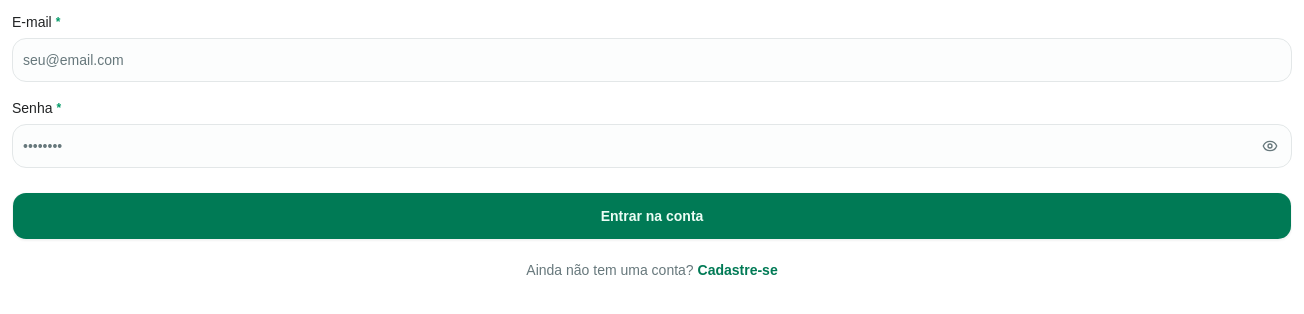
Scenario: LoginForm: validação › recusa senha com menos de 6 caracteres
This screenshot has width=1304, height=314.
Type "maria@verdear.dev" into the field labelled "E-mail *" at (652, 60), box [12,38,1292,82]
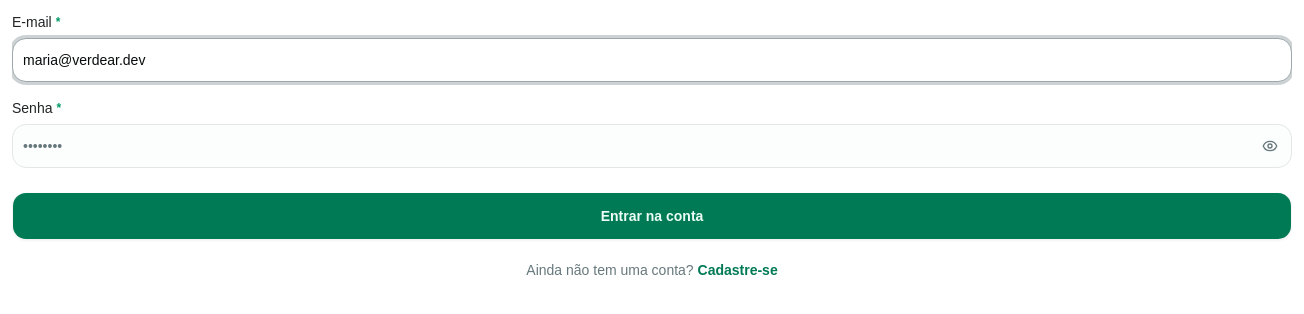
Type "12345" into the password field labelled "Senha *" at (652, 146), box [12,124,1292,168]
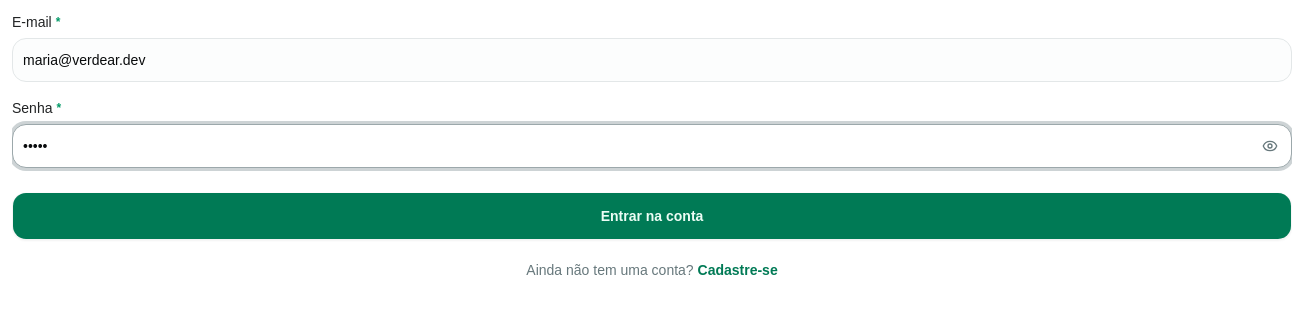
Click the button "Entrar na conta" at (652, 216), box [12,192,1292,240]
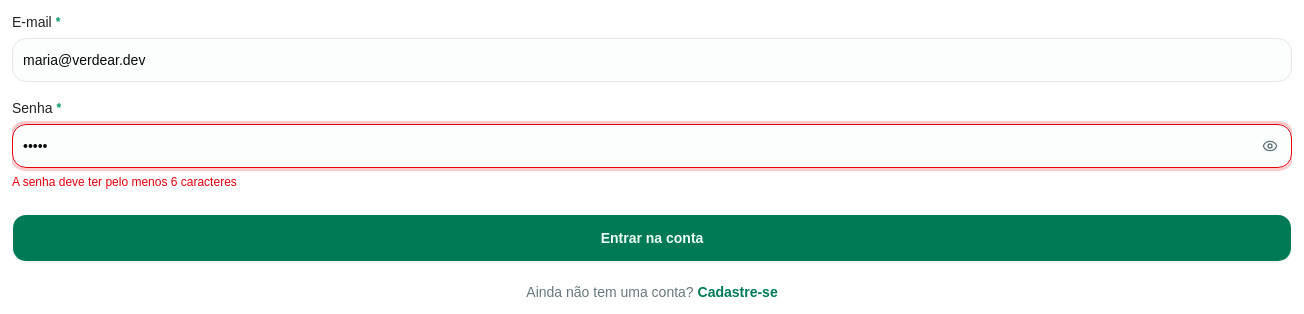
Result: the text "A senha deve ter pelo menos 6 caracteres" is shown at [12,175,237,189]
